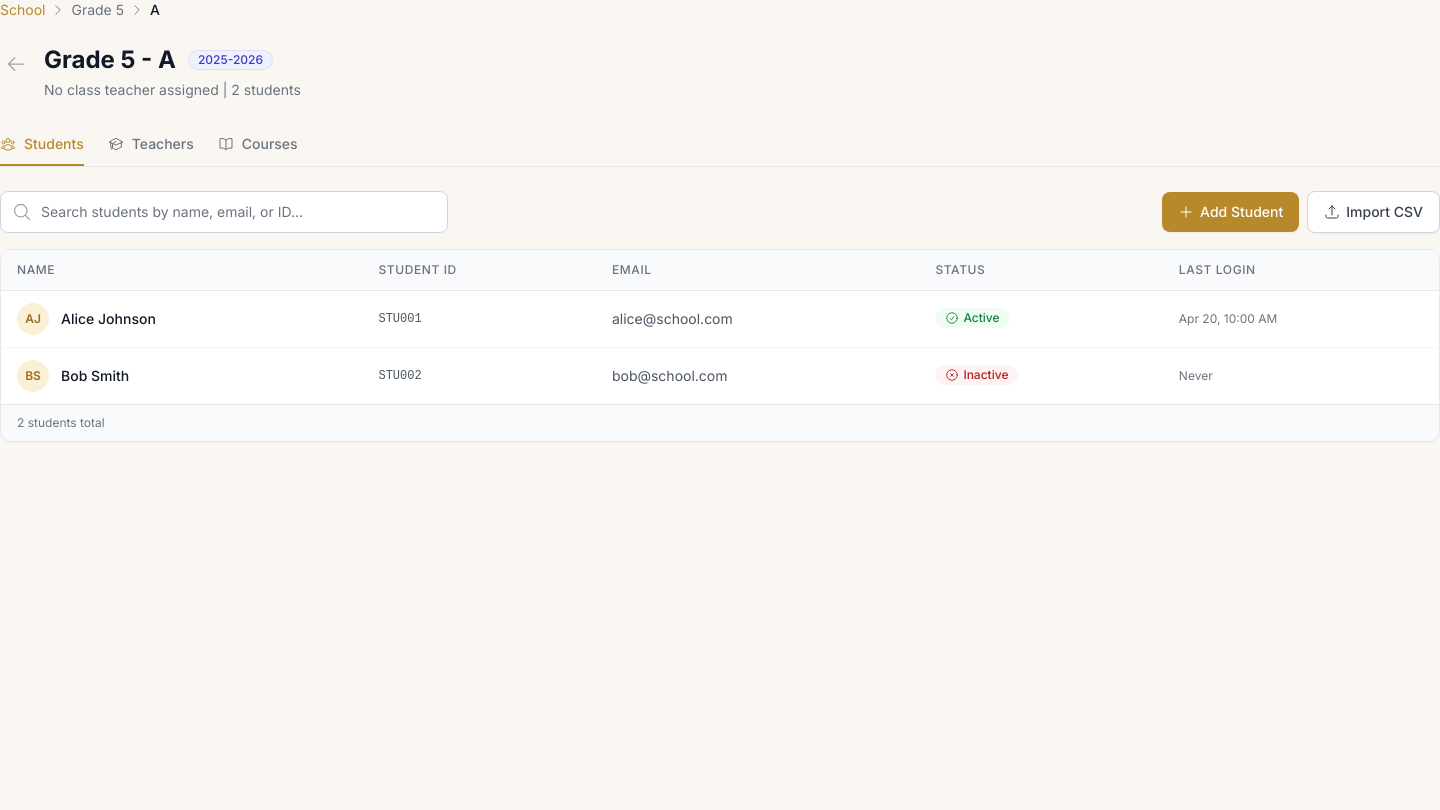
it: SectionDetailPage › 6. Add Student modal › submitting empty form shows "First name is required" error
Step 1. Click the button "Add Student" → (1231, 212), box left=1162, top=192, right=1299, bottom=232
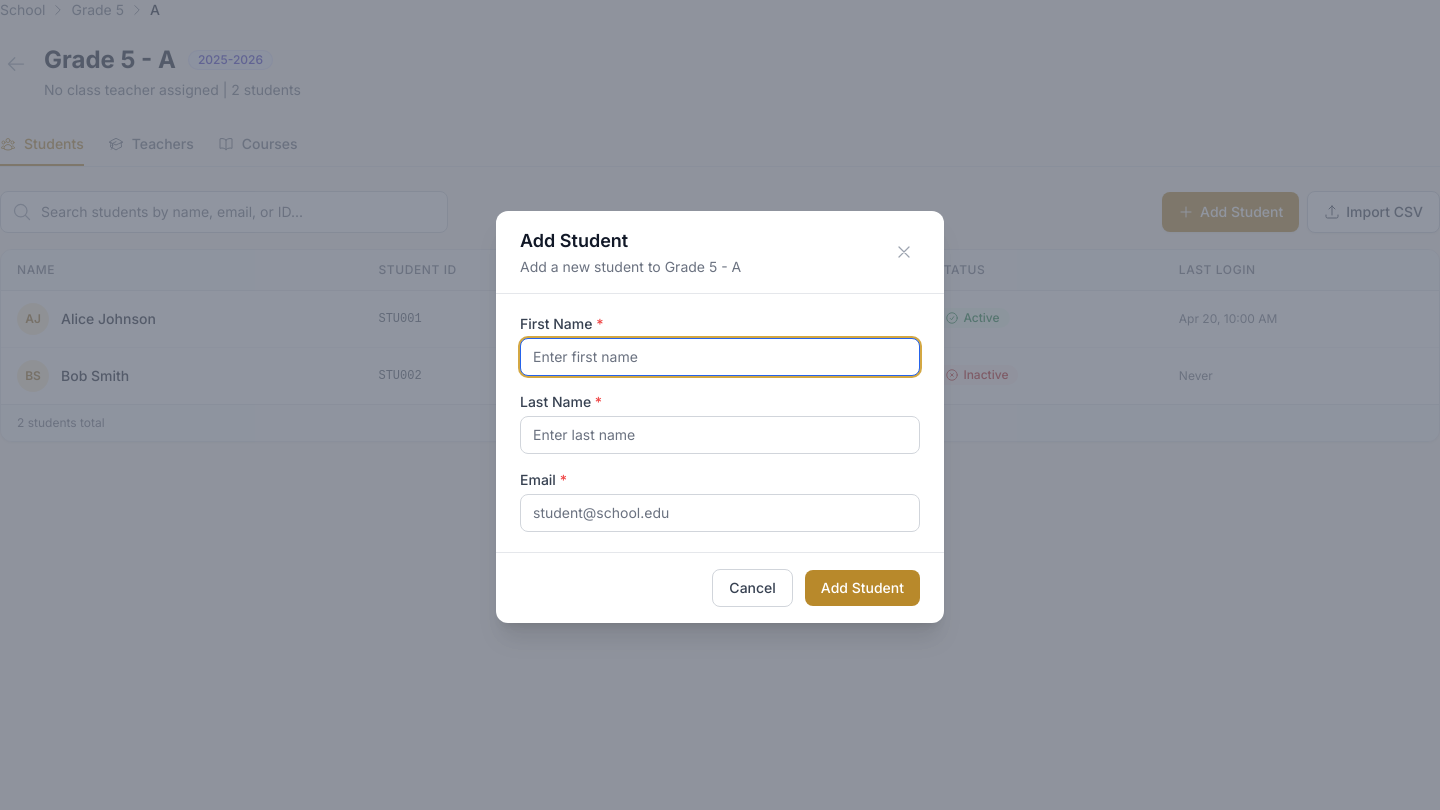
Expected: the field labelled "First Name *" is shown, left=520, top=338, right=920, bottom=376
Step 2. Click the button "Add Student" → (862, 588), box left=805, top=570, right=920, bottom=606
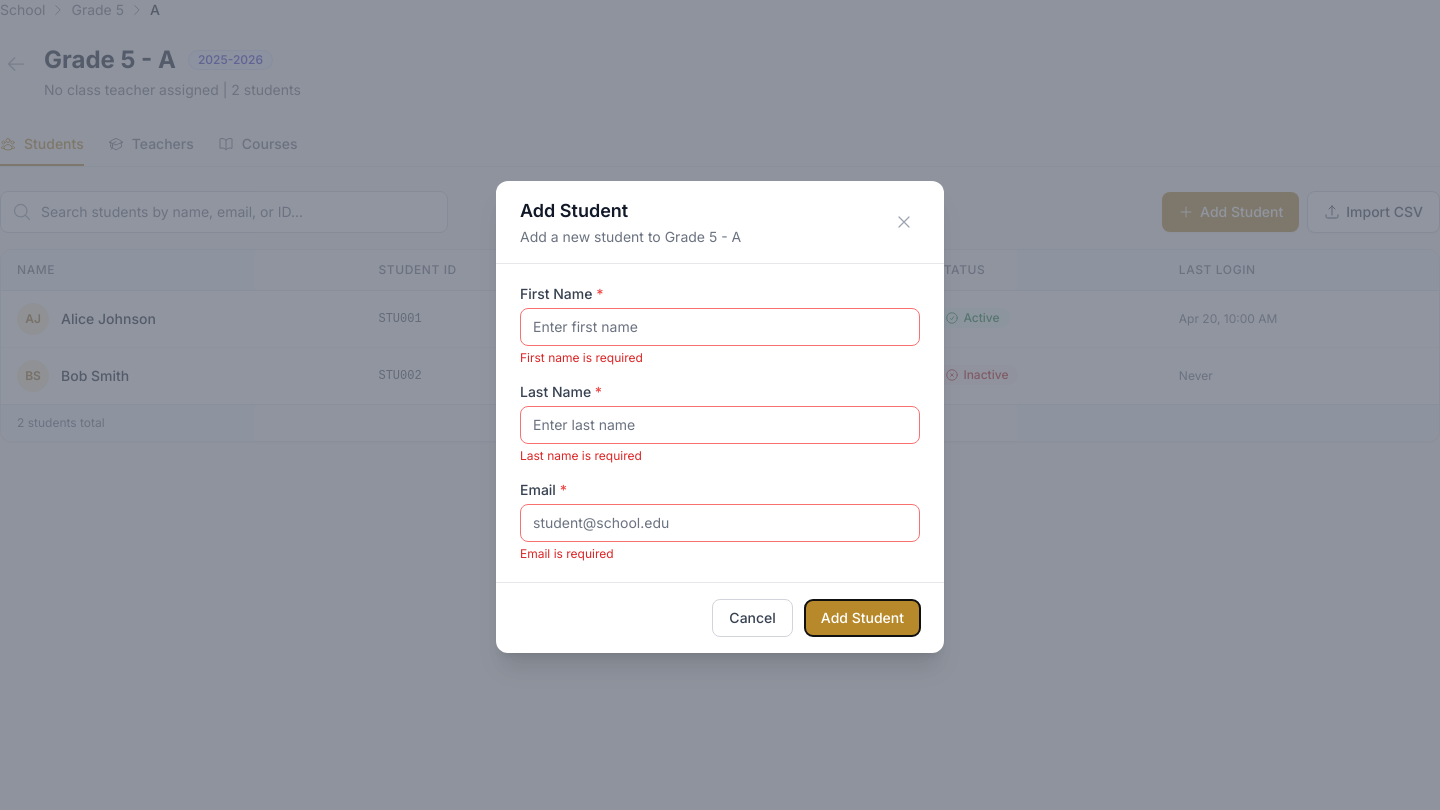
Expected: the text "First name is required" is shown, left=520, top=350, right=643, bottom=365
